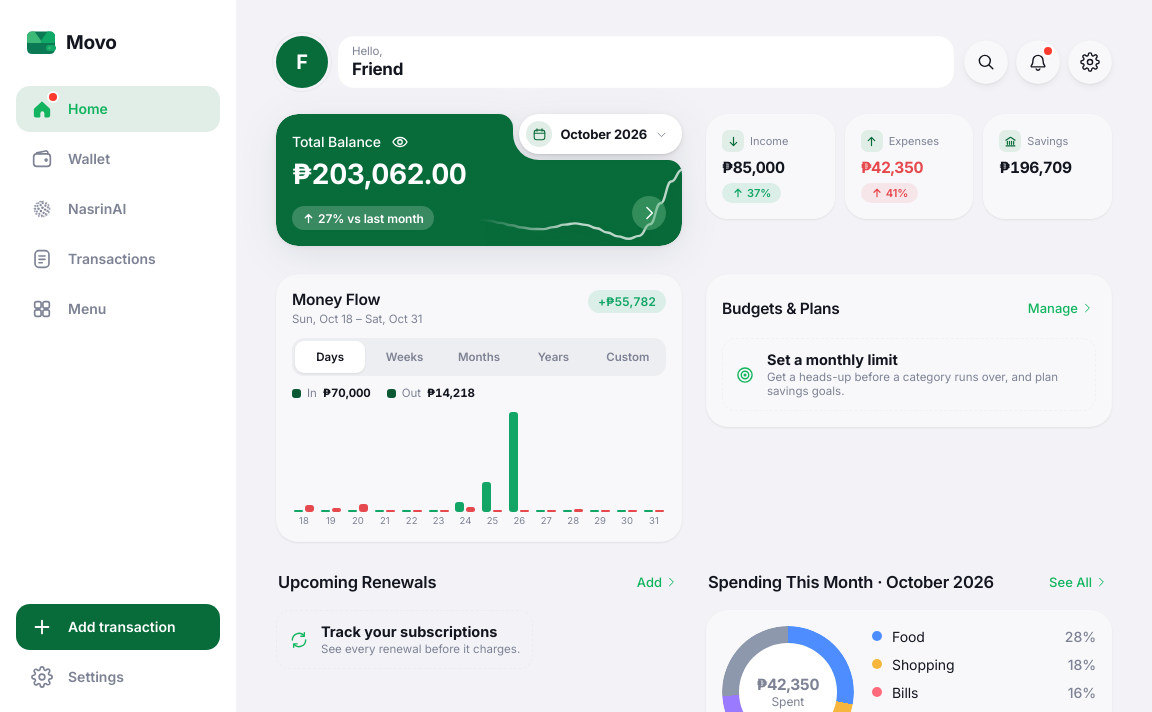
Scenario: MOVO finance frontend › privacy toggle hides displayed balances
Click the button named "Hide balances" at [400, 142], box [389, 131, 411, 153]
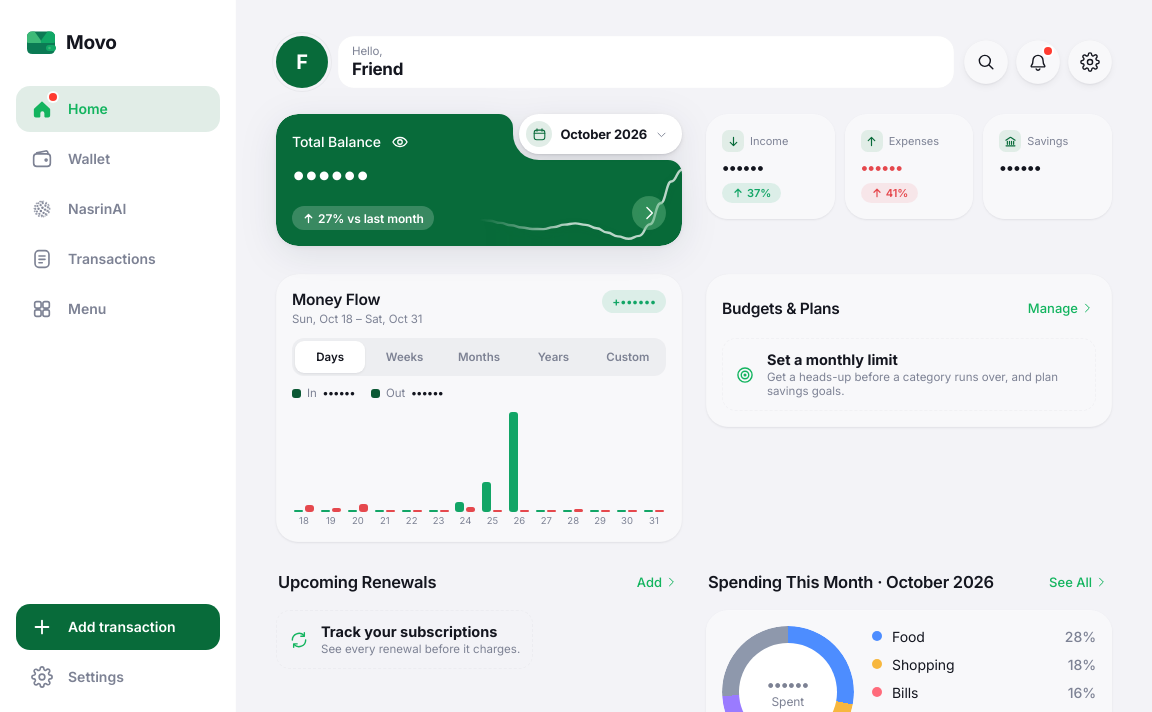
Expected: the text "••••••" is shown, [292, 160, 369, 189]
Expected: the text "₱203,062.00" is gone
